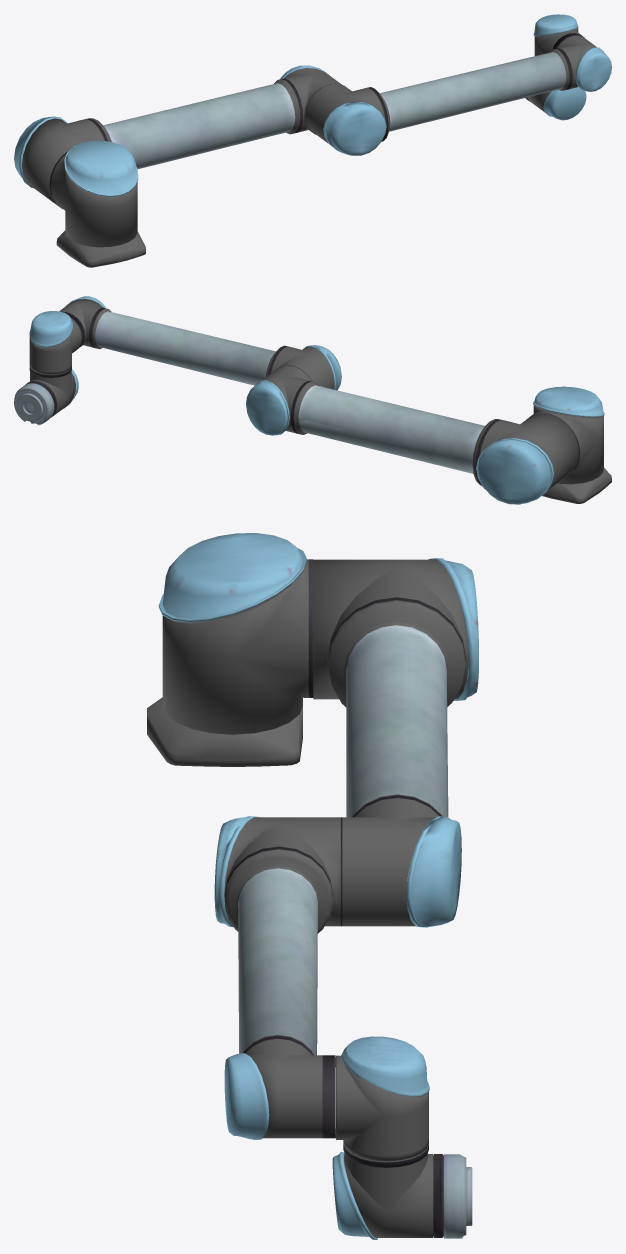
3 renders of one model, top to bottom at view 1: azimuth 30°, elevation 25°; view 2: azimuth 150°, elevation 25°; view 3: azimuth 270°, elevation 25°, orthographic. The views are drawn at different scales.
Parts seen in each view (by area): view 1: upperam_UR10e_low, Forearm_UR10e_low, Shoulder_UR10e_low, Base_UR10e_low, wrist2_UR10e_low, wrist1_UR10e_low; view 2: upperam_UR10e_low, Forearm_UR10e_low, Shoulder_UR10e_low, wrist1_UR10e_low, wrist3_UR10e_low, Base_UR10e_low, wrist2_UR10e_low; view 3: upperam_UR10e_low, Forearm_UR10e_low, Shoulder_UR10e_low, wrist1_UR10e_low, wrist2_UR10e_low, Base_UR10e_low, wrist3_UR10e_low.
Boxes of the visible parts, box(x1,y1,x2,y2) form: upperam_UR10e_low: box(14, 65, 341, 208); Forearm_UR10e_low: box(305, 33, 611, 155); Shoulder_UR10e_low: box(49, 140, 138, 247); Base_UR10e_low: box(56, 230, 145, 267); wrist2_UR10e_low: box(526, 87, 586, 120); wrist1_UR10e_low: box(533, 14, 584, 55); upperam_UR10e_low: box(246, 365, 578, 504); Forearm_UR10e_low: box(59, 296, 341, 390); Shoulder_UR10e_low: box(527, 386, 604, 484); wrist1_UR10e_low: box(29, 311, 81, 377); wrist3_UR10e_low: box(14, 383, 54, 425); Base_UR10e_low: box(542, 467, 611, 503); wrist2_UR10e_low: box(24, 369, 78, 417); upperam_UR10e_low: box(313, 558, 478, 927); Forearm_UR10e_low: box(214, 816, 341, 1139); Shoulder_UR10e_low: box(158, 533, 313, 734); wrist1_UR10e_low: box(335, 1036, 429, 1167); wrist2_UR10e_low: box(332, 1152, 443, 1239); Base_UR10e_low: box(147, 697, 302, 766); wrist3_UR10e_low: box(443, 1154, 472, 1238).
Bounding box in the file's own units: 131 × 25.17 × 35.52.
Materials: 1 (1 with a texture image).
